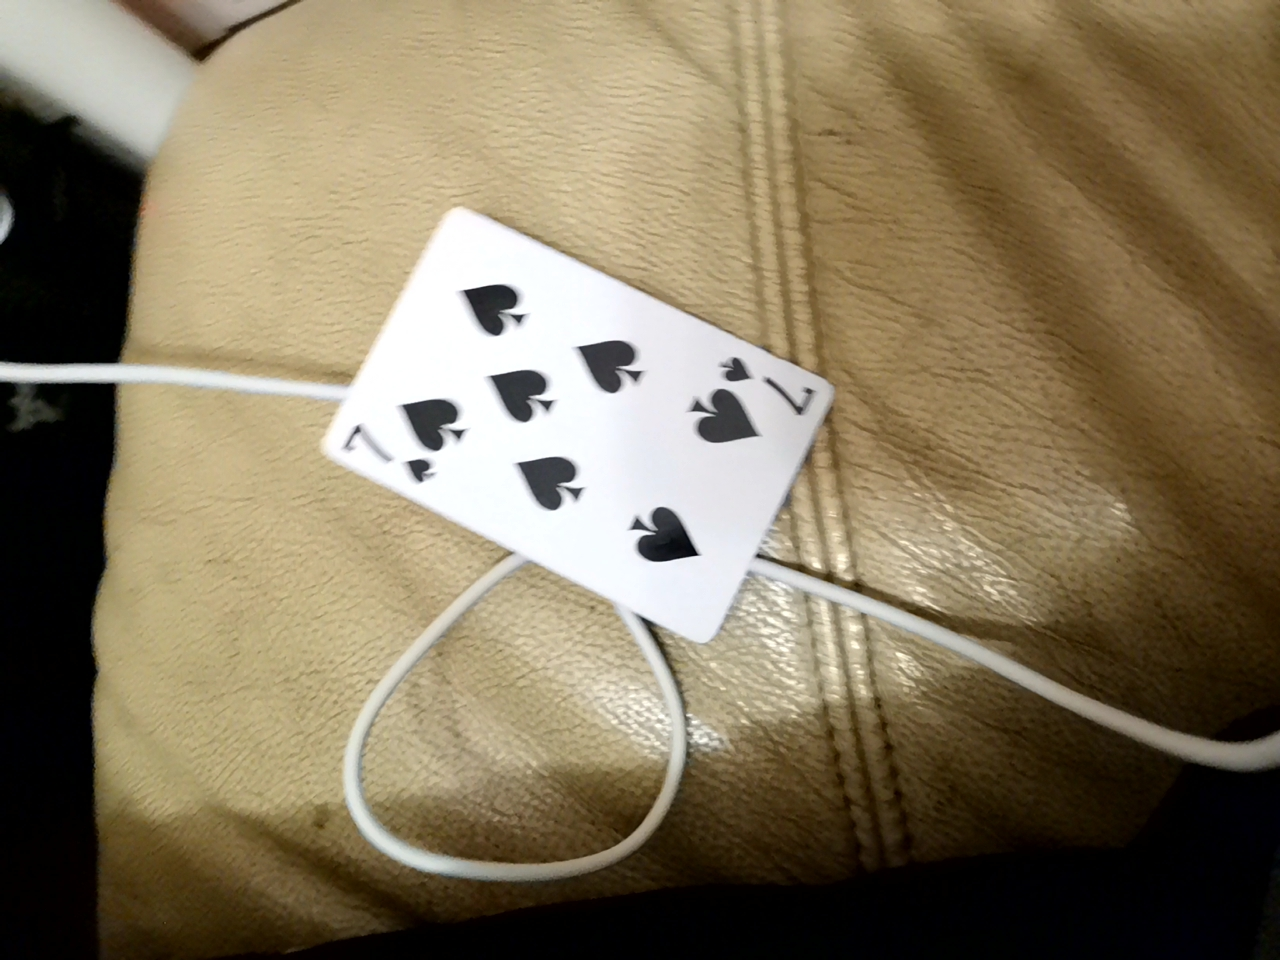ht 7: (418, 189, 905, 661)
